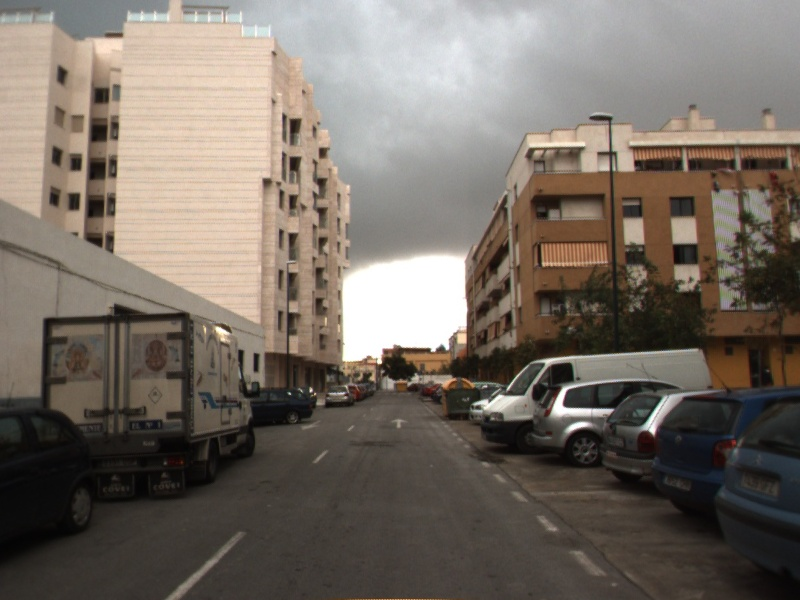STRAIGHT: (388, 416, 411, 431)
